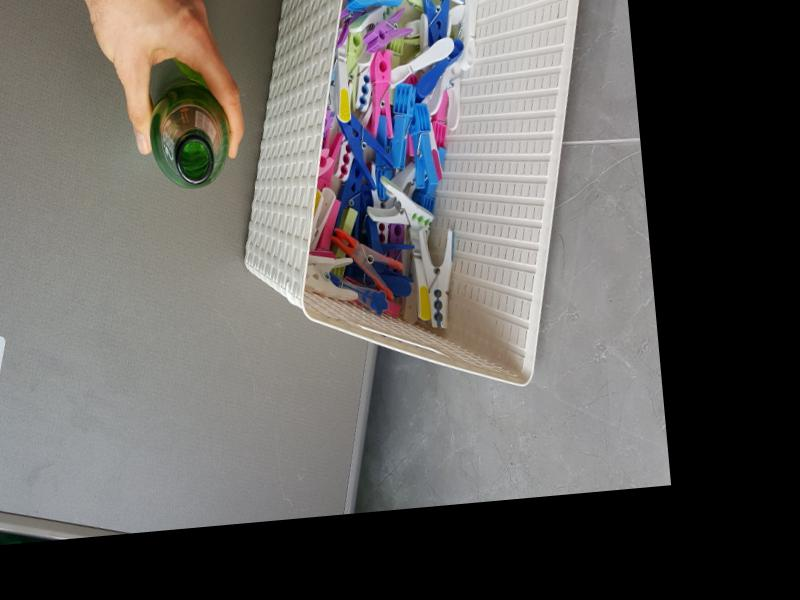Beer: (144, 73, 233, 191)
